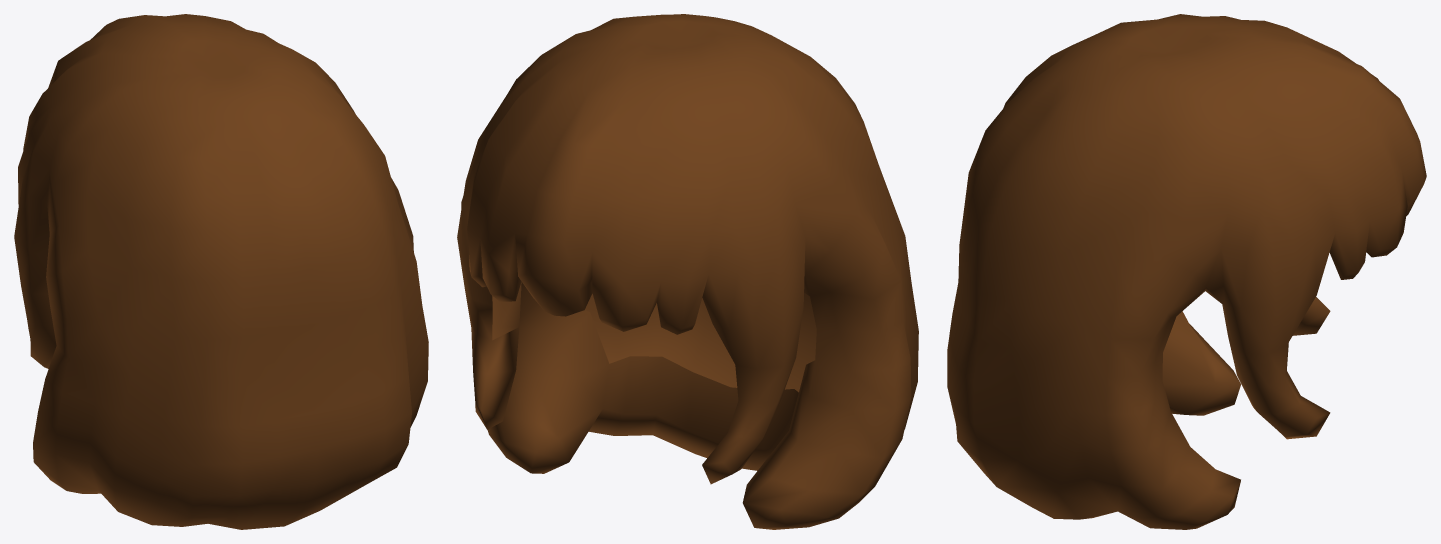
The model's file is Hair_Female_001.glb.
3 renders of one model, left to right at view 1: azimuth 30°, elevation 25°; view 2: azimuth 150°, elevation 25°; view 3: azimuth 270°, elevation 25°, orthographic. The views are drawn at different scales.
Parts seen in each view (by area): view 1: Hair_Female_001; view 2: Hair_Female_001; view 3: Hair_Female_001.
Boxes of the visible parts, left/top/right/bottom form: Hair_Female_001: left=14, top=14, right=428, bottom=529; Hair_Female_001: left=457, top=14, right=918, bottom=529; Hair_Female_001: left=947, top=14, right=1426, bottom=529.
Bounding box in the file's own units: 0.2205 × 0.2446 × 0.236.
